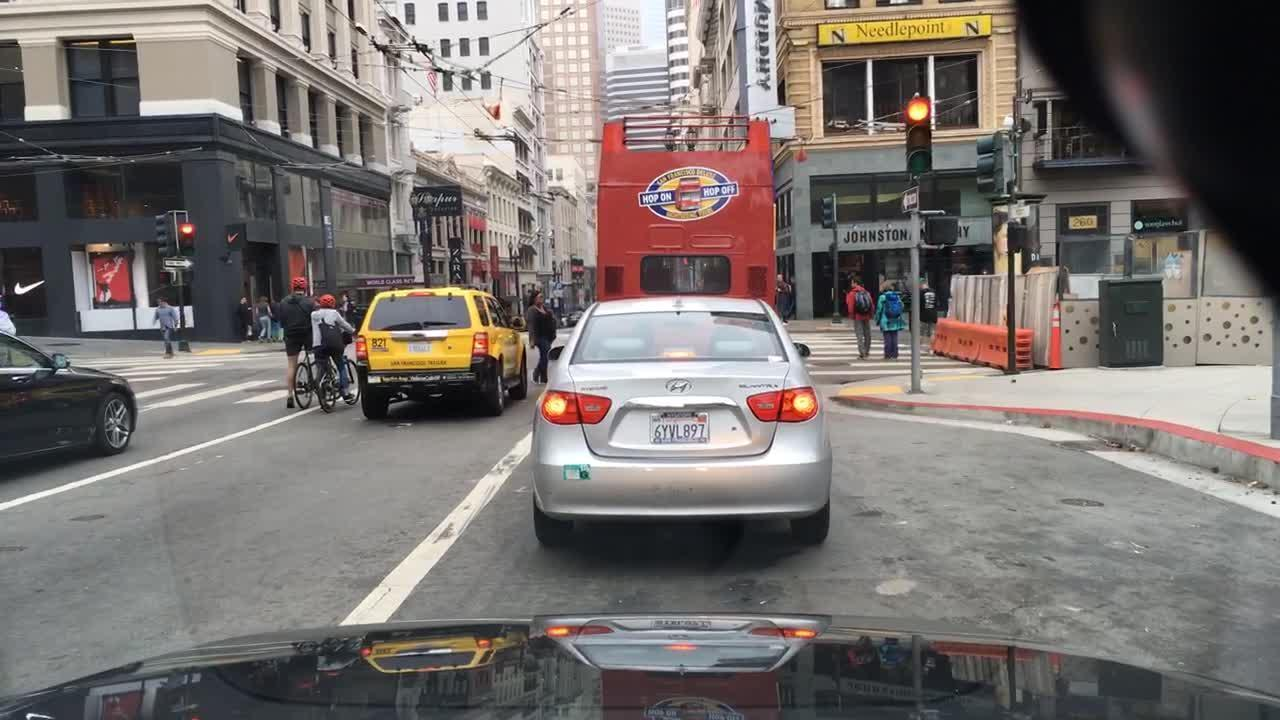Hyundai: (662, 377, 700, 399)
